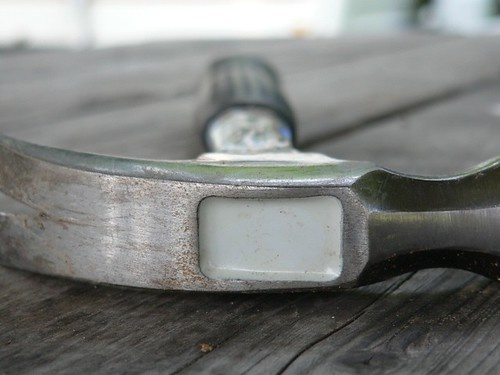hammer: (1, 56, 500, 291)
